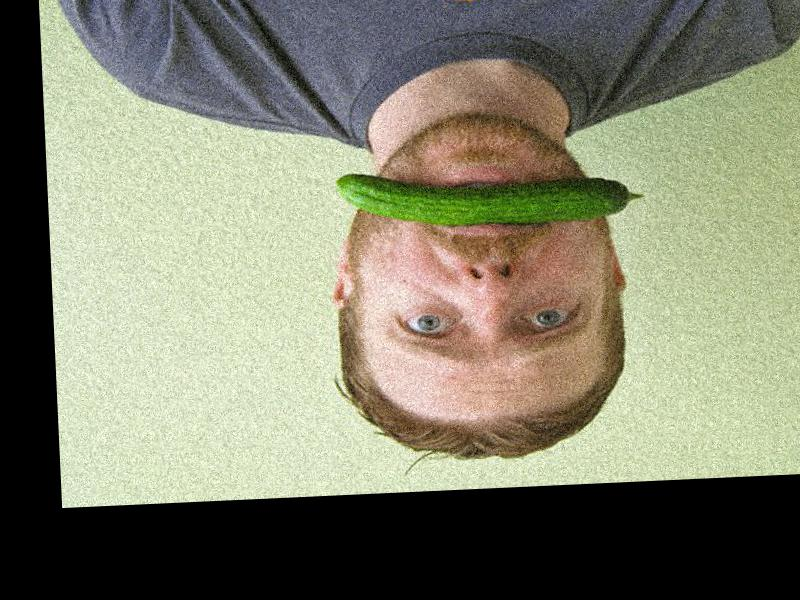Cucumber: (333, 160, 644, 231)
